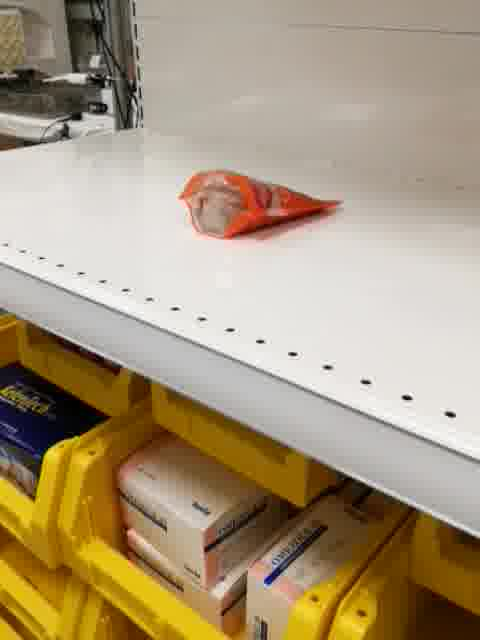whitechia: (173, 166, 343, 240)
